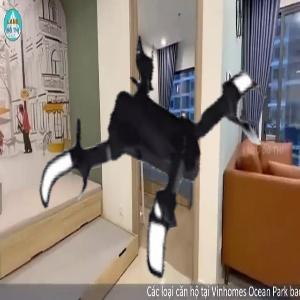drone: (25, 8, 298, 281)
